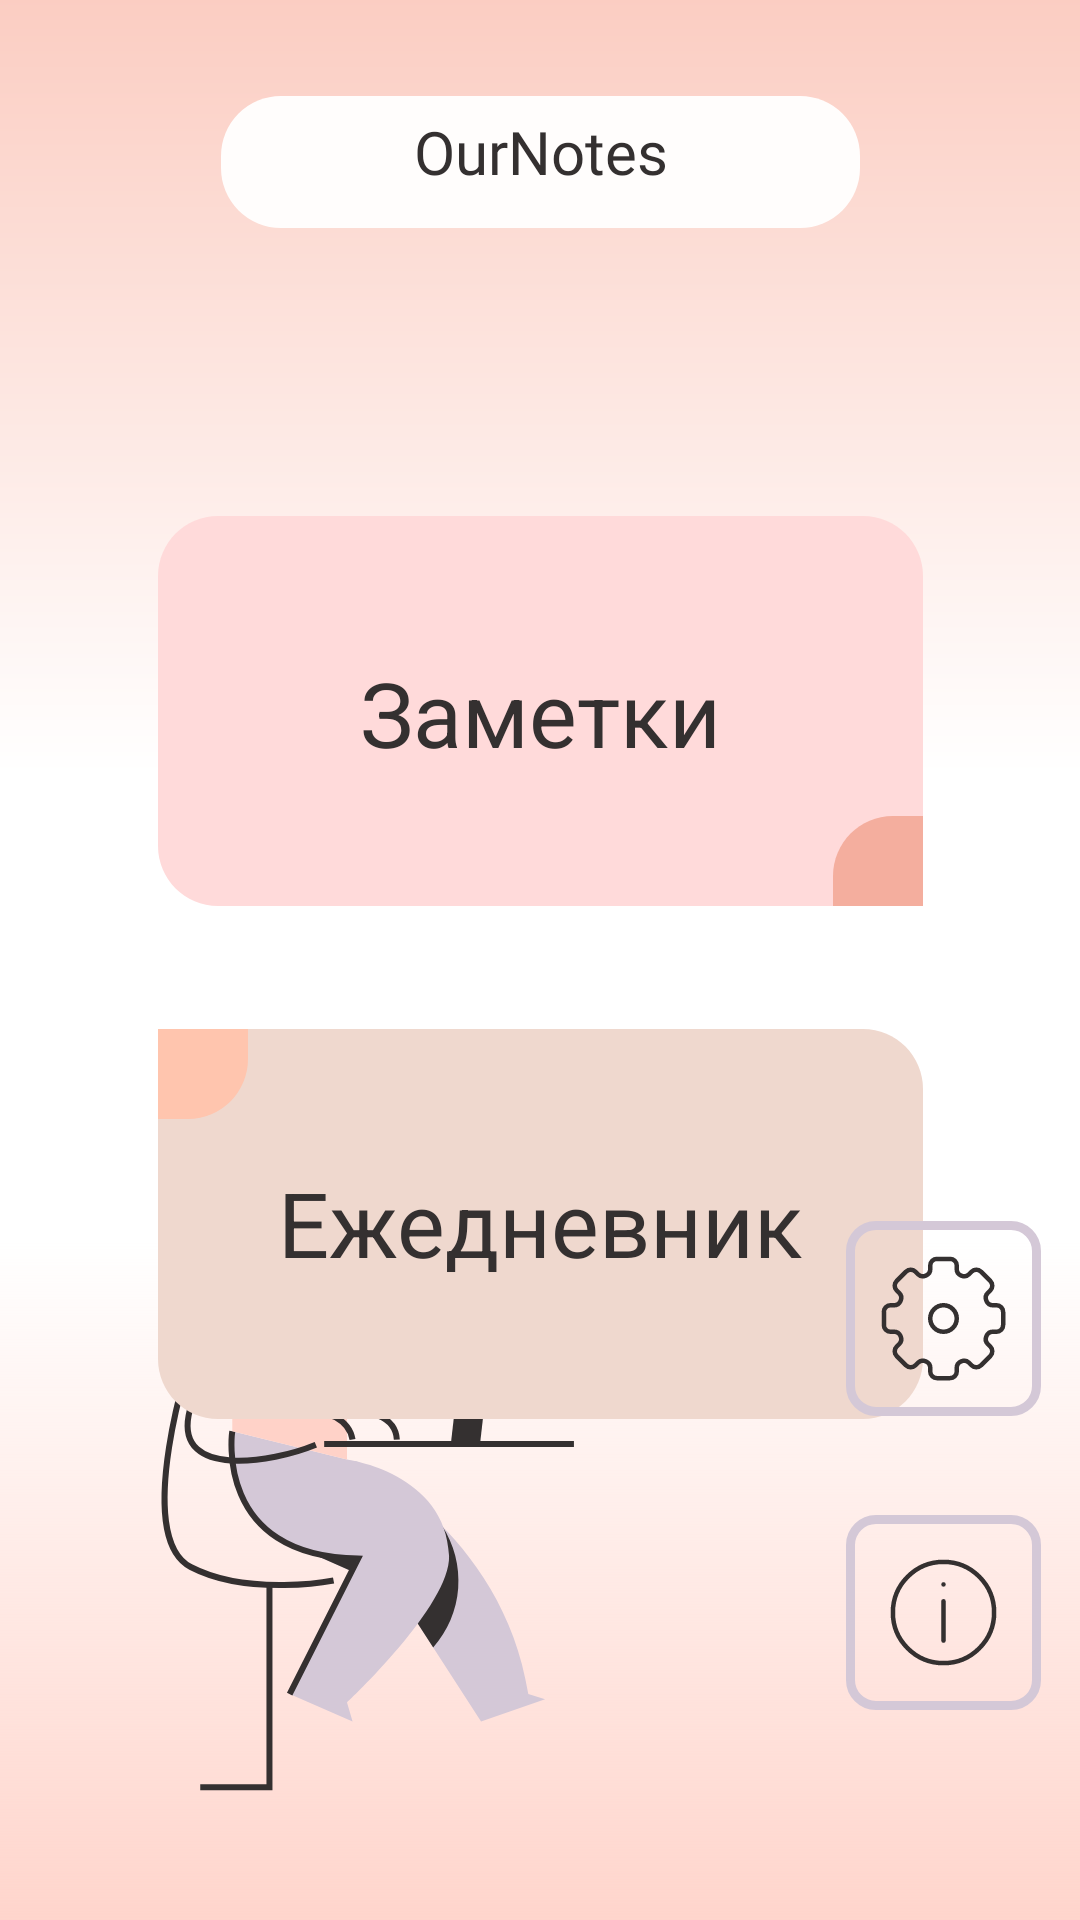

Locate icon controls on the screen. Image size 1080 x 1920, boxes as (x1, y1, x2, y2).
sqinfmain: (846, 1515, 1041, 1710)
